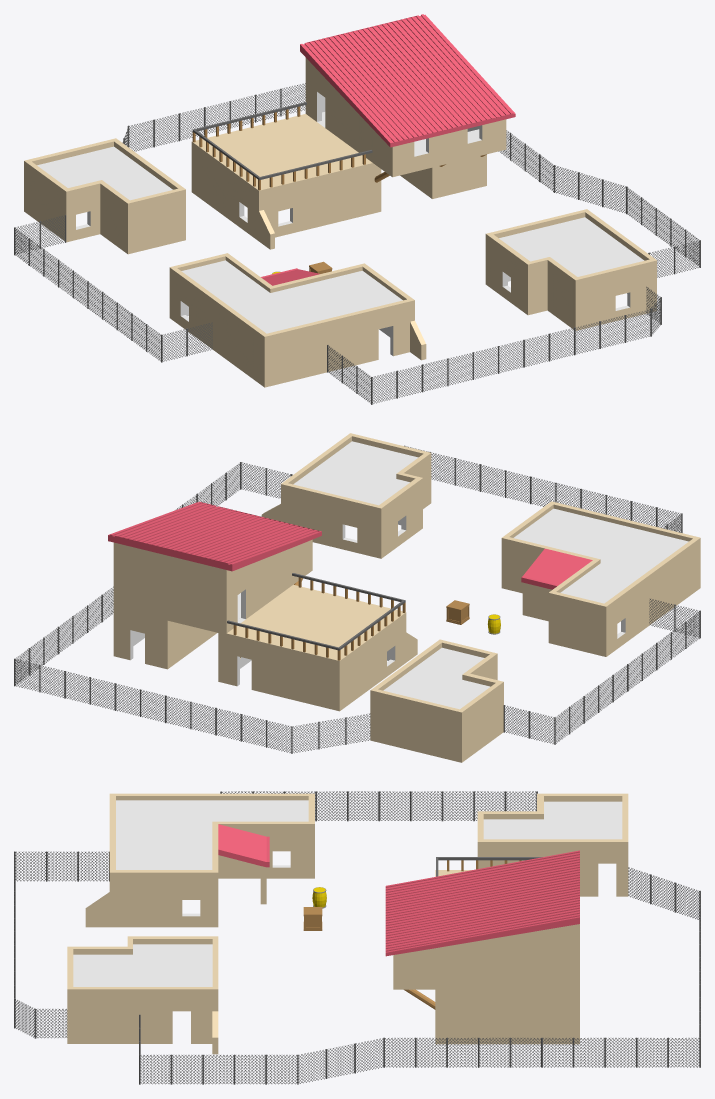
The model's file is mapa.fbx.
3 renders of one model, top to bottom at view 1: azimuth 30°, elevation 25°; view 2: azimuth 150°, elevation 25°; view 3: azimuth 270°, elevation 25°, orthographic. The views are drawn at different scales.
Visible parts, largest first — view 1: dom4, dom2, plotek.012, dom, dom3, plotek; view 2: dom4, plotek.012, dom2, dom, dom3, Cube; view 3: dom4, dom2, plotek.012, dom, dom3, plotek, Cube, Cube.002, Cube.004.
Part boxes in pixels (x1,y1,x2,y2): dom4: (191,14,515,241); dom2: (169,253,414,387); plotek.012: (14,83,700,404); dom: (485,209,657,330); dom3: (24,138,185,254); plotek: (327,345,370,403); dom4: (108,501,406,711); plotek.012: (14,445,700,753); dom2: (501,501,700,656); dom: (281,433,431,558); dom3: (370,639,503,762); Cube: (521,548,592,621); dom4: (385,850,579,1044); dom2: (109,793,314,927); plotek.012: (14,791,700,1084); dom: (67,936,218,1043); dom3: (477,793,628,896); plotek: (15,851,109,881); Cube: (218,824,269,904); Cube.002: (85,892,109,927); Cube.004: (303,907,322,930).
Size of the model in its own units: 10364 by 2400 by 11393.
